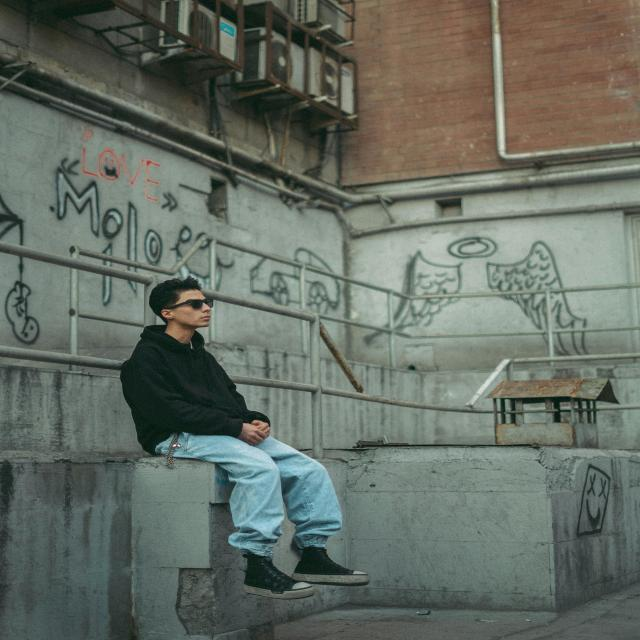sit: (125, 271, 379, 603)
